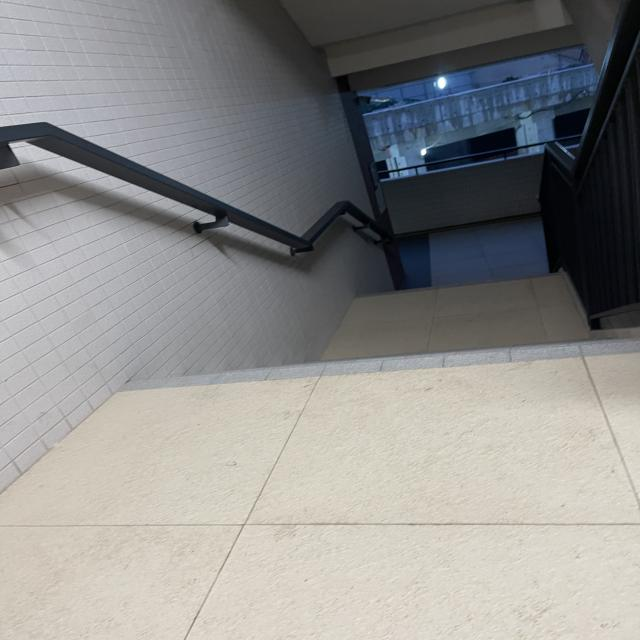Stairs: (60, 254, 640, 423)
